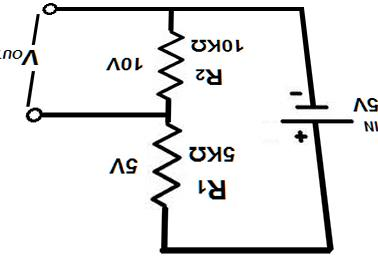Battery: (264, 69, 350, 167)
